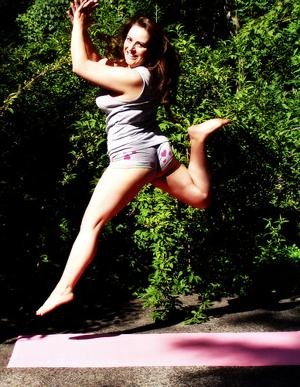person: (36, 3, 236, 315)
